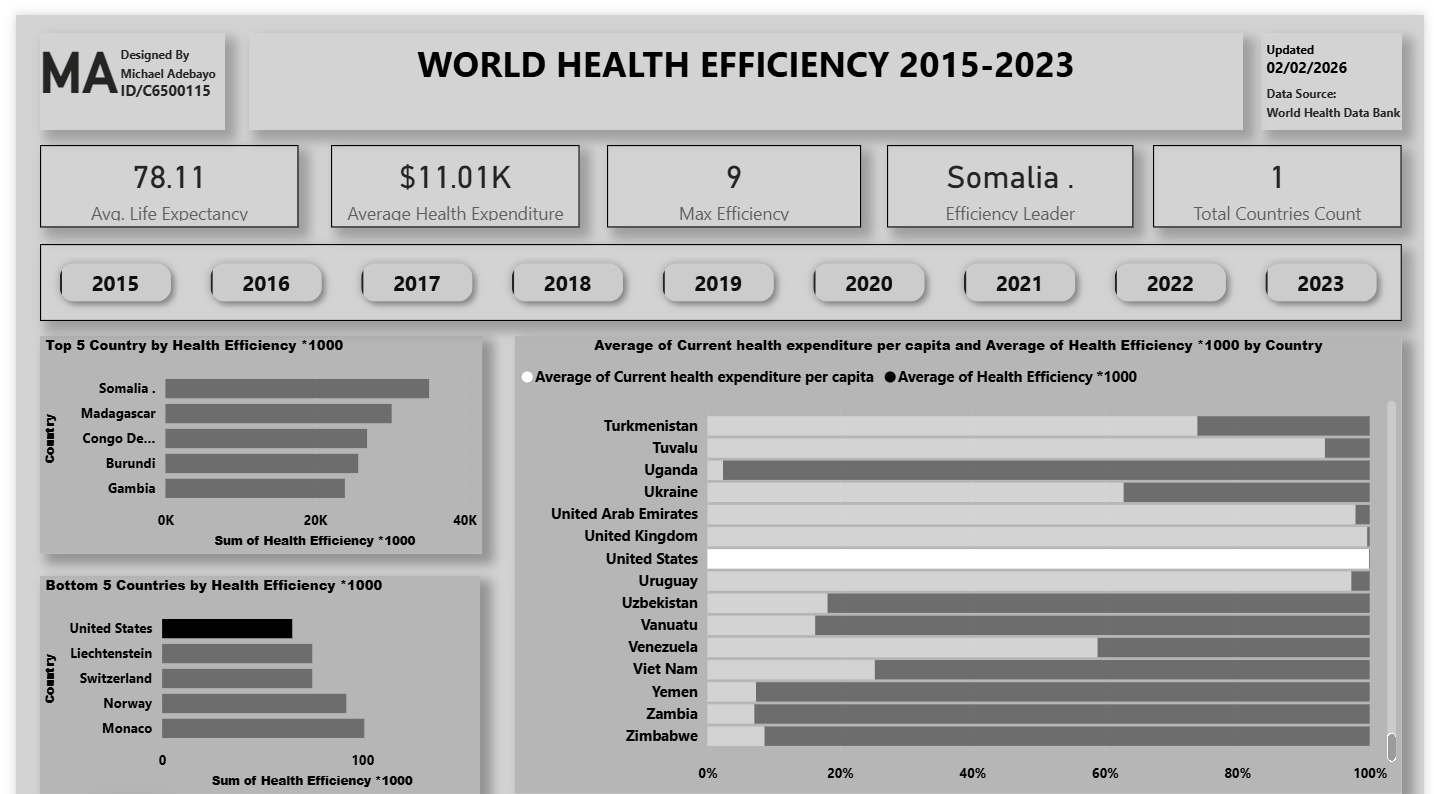

The page's visual inventory and layout, read from the dashboard file:
{"tool":"powerbi","page":{"name":"Page 1","canvas":[1280,720],"ordinal":0},"visuals":[{"type":"clusteredBarChart","title":"Top 5 Country by Health Efficiency *1000","fields":{"Category":["Table1.Country Name"],"Y":["Sum(Table1.Health Efficiency *1000)"]},"box":[22,292,402,198],"z":0},{"type":"clusteredBarChart","title":"Bottom 5 Countries by Health Efficiency *1000 ","fields":{"Category":["Table1.Country "],"Y":["Sum(Table1.Health Efficiency *1000)"]},"box":[22,510,400,198],"z":1000},{"type":"advancedSlicerVisual","fields":{"Values":["Table1.Year"]},"box":[22,208,1238,70],"z":2000},{"type":"hundredPercentStackedBarChart","fields":{"Category":["Table1.Country "],"Y":["Avg(Table1.Current health expenditure per capita )","Avg(Table1.Health Efficiency *1000)"]},"box":[454,292,806,416],"z":3000},{"type":"textbox","box":[212,16,904,88],"z":4000},{"type":"card","fields":{"Values":["Table1.Avg. Life Expectancy"]},"box":[22,118,235.1,75],"z":4000,"group":"g1"},{"type":"textbox","box":[1132,16,128,88],"z":5000},{"type":"card","fields":{"Values":["Table1.Average Health Expenditure"]},"box":[286.2,118,226.2,75],"z":5000,"group":"g1"},{"type":"textbox","box":[16.7,18.3,93.3,91.7],"z":6000},{"type":"card","fields":{"Values":["Table1.Max Efficiency"]},"box":[537,118,230.6,75],"z":6000,"group":"g1"},{"type":"group","id":"g1","title":"Group 2","box":[22,118,1238,76],"z":7000},{"type":"card","fields":{"Values":["Table1.Efficiency Leader"]},"box":[792.3,118,223.9,75],"z":7000,"group":"g1"},{"type":"textbox","box":[90,21.1,106.7,68.9],"z":8000},{"type":"textbox","box":[1132,56,138,62],"z":9000},{"type":"card","fields":{"Values":["Table1.Total Countries"]},"box":[1034.2,118,226.2,75],"z":9000,"group":"g1"},{"type":"textbox","box":[22,16,168,88],"z":10000}]}

Visuals, with their boxes in screenshot pixels (x1, y1, x2, y2), scaled from the page's 1280x720 canvas onto the 1434x794 screenshot:
"Top 5 Country by Health Efficiency *1000" clusteredBarChart: rect(25, 322, 475, 540)
"Bottom 5 Countries by Health Efficiency *1000 " clusteredBarChart: rect(25, 562, 473, 781)
advancedSlicerVisual - Table1.Year: rect(25, 229, 1412, 307)
hundredPercentStackedBarChart - Table1.Country  x Avg(Table1.Current health expenditure per capita ): rect(509, 322, 1412, 781)
textbox: rect(238, 18, 1250, 115)
card - Table1.Avg. Life Expectancy: rect(25, 130, 288, 213)
textbox: rect(1268, 18, 1412, 115)
card - Table1.Average Health Expenditure: rect(321, 130, 574, 213)
textbox: rect(19, 20, 123, 121)
card - Table1.Max Efficiency: rect(602, 130, 860, 213)
"Group 2" group: rect(25, 130, 1412, 214)
card - Table1.Efficiency Leader: rect(888, 130, 1138, 213)
textbox: rect(101, 23, 220, 99)
textbox: rect(1268, 62, 1423, 130)
card - Table1.Total Countries: rect(1159, 130, 1412, 213)
textbox: rect(25, 18, 213, 115)
